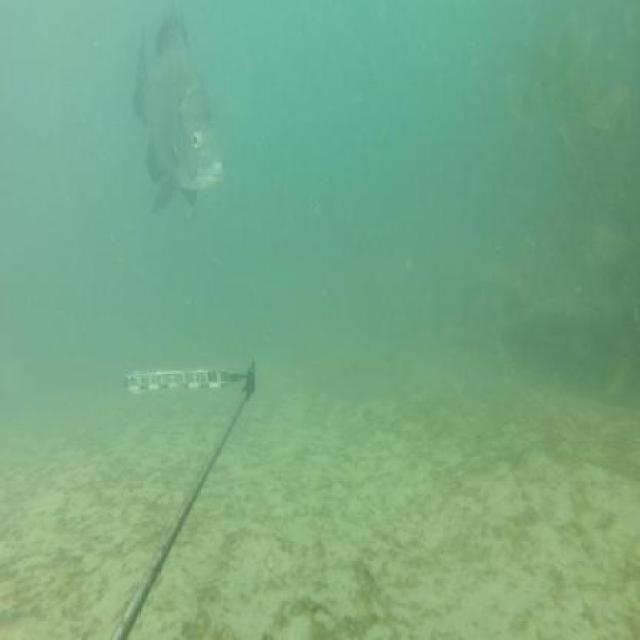acanthopagrus_palmaris: (135, 9, 228, 222)
